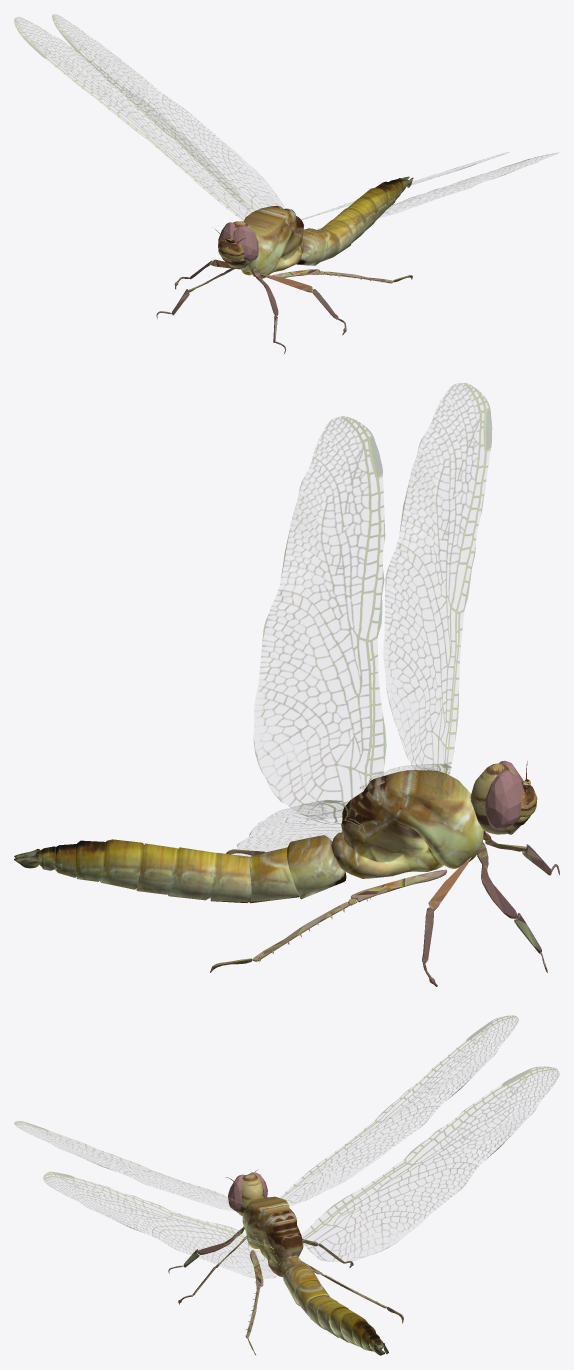
Rendered from dragonfly.glb.
The picture shows the model from 3 angles, top to bottom: view 1: azimuth 30°, elevation 25°; view 2: azimuth 150°, elevation 25°; view 3: azimuth 270°, elevation 25°; orthographic projection. The views are drawn at different scales.
Visible parts, largest first — view 1: wings back, tail, wings front, body, legs, eyes whisks, head; view 2: wings back, tail, body, wings front, legs, eyes whisks, head; view 3: wings back, wings front, tail, body, legs, head, eyes whisks.
Part boxes in pixels (x1,y1,x2,y2): wings back: [52, 14, 557, 235]; tail: [296, 176, 413, 265]; wings front: [14, 17, 508, 227]; body: [241, 205, 303, 278]; legs: [156, 259, 412, 353]; eyes whisks: [215, 222, 258, 262]; head: [218, 221, 252, 268]; wings back: [237, 416, 386, 858]; tail: [14, 835, 346, 903]; body: [331, 770, 483, 878]; wings front: [359, 383, 492, 801]; legs: [210, 830, 559, 986]; eyes whisks: [485, 760, 528, 829]; head: [470, 763, 537, 834]; wings back: [43, 1066, 559, 1278]; wings front: [14, 1015, 518, 1212]; tail: [283, 1264, 388, 1355]; body: [242, 1196, 303, 1277]; legs: [168, 1226, 403, 1355]; head: [236, 1174, 263, 1215]; eyes whisks: [226, 1169, 267, 1211].
Bounding box in the file's own units: 10.83 × 6.95 × 15.84.
9 materials, 7 textured.
